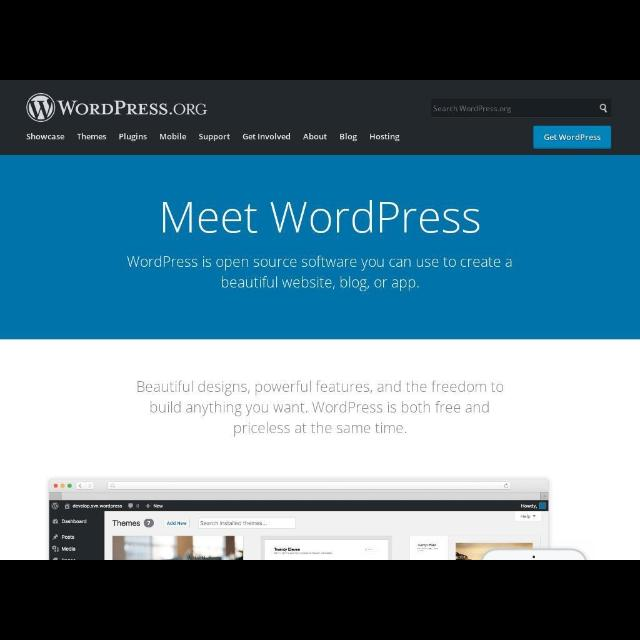icon: (598, 105, 608, 114)
image: (49, 479, 549, 559), (26, 93, 56, 121)
input: (432, 99, 608, 115)
text: (137, 379, 505, 435), (126, 253, 514, 290), (163, 201, 479, 235), (58, 100, 208, 116), (432, 104, 514, 115), (243, 131, 290, 141), (542, 134, 600, 142), (198, 133, 230, 141), (368, 134, 399, 142), (303, 132, 327, 142), (26, 134, 64, 140), (118, 133, 146, 141), (160, 132, 187, 140), (76, 134, 106, 140), (338, 134, 358, 142)
textbutton: (534, 125, 610, 148)
